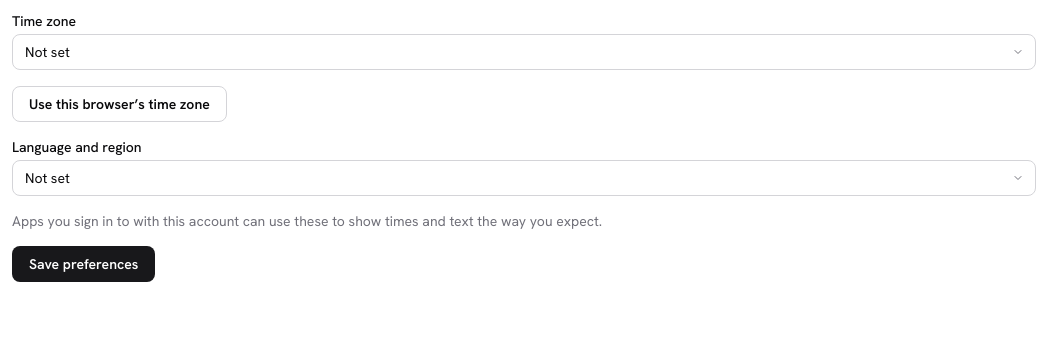
the preferences panel › sends both choices and says they are saved
Select "Asia/Tokyo" in the dropdown labelled "Time zone" at [524, 52], box [12,34,1036,70]
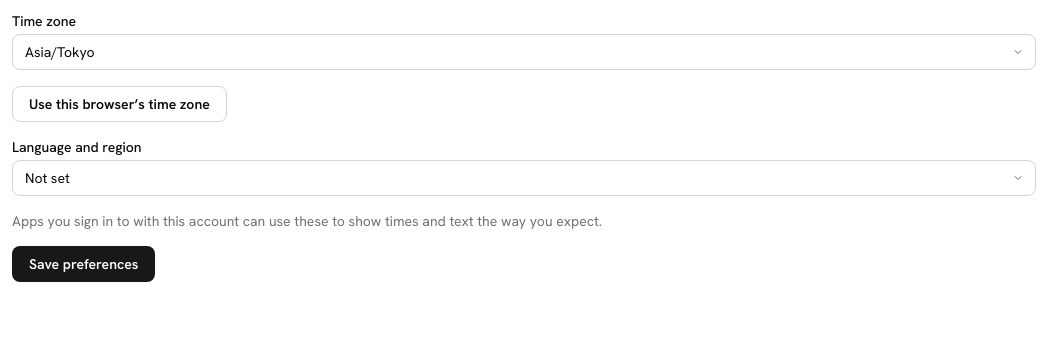
Select "French (France) (fr-FR)" in the dropdown labelled "Language and region" at [524, 178], box [12,160,1036,196]
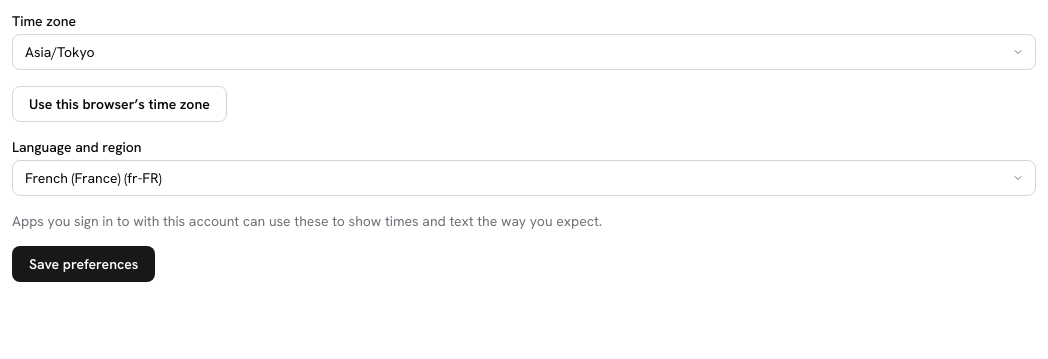
Click the button "Save preferences" at [84, 264], box [12,246,156,282]
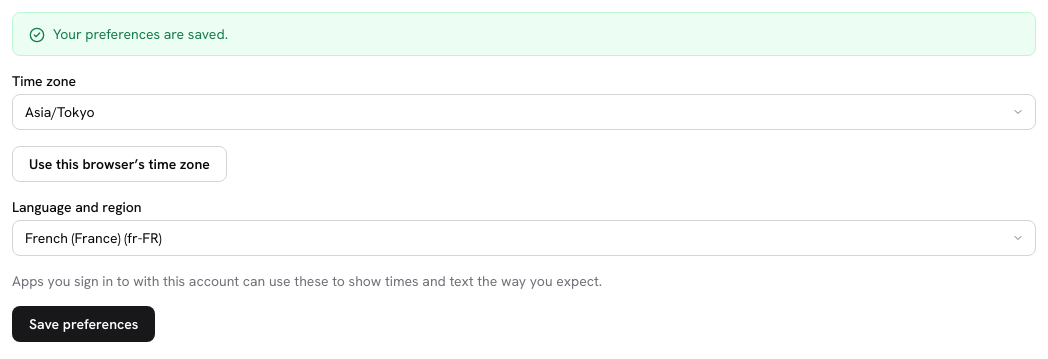
Result: the text "Your preferences are saved." is shown at [53,25,228,43]
